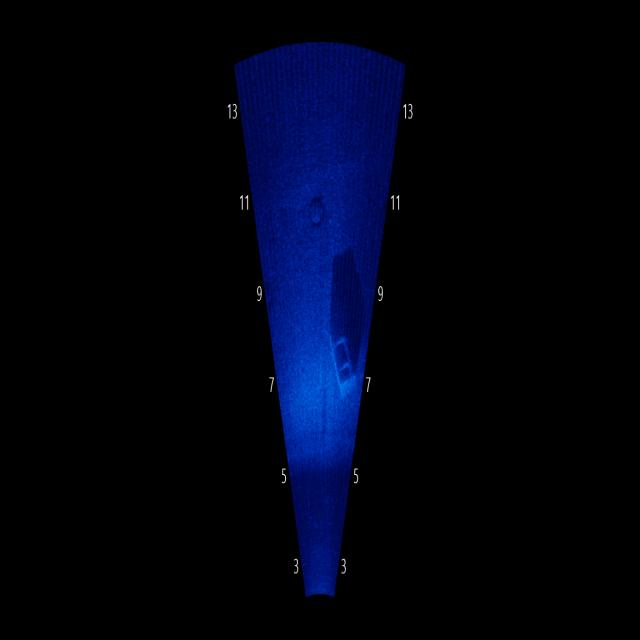square: (326, 332, 361, 393)
